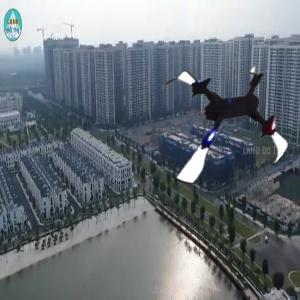drone: (151, 53, 297, 199)
